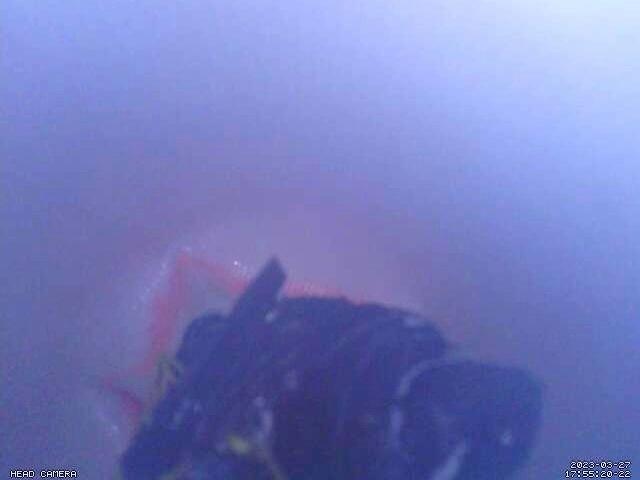head: (103, 249, 365, 414)
